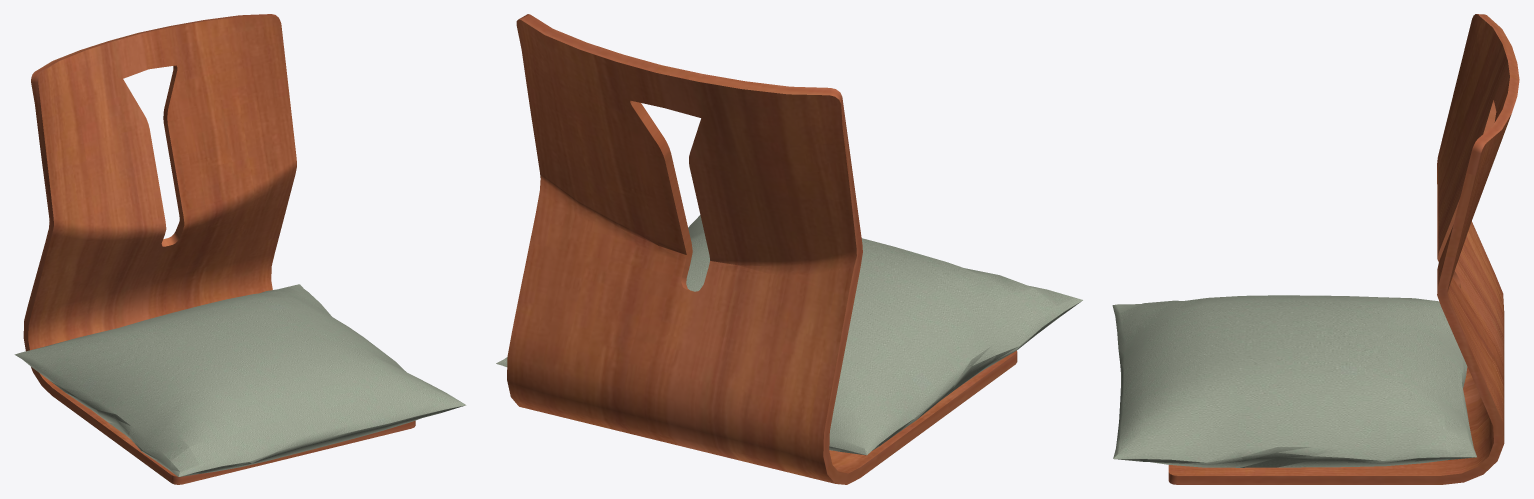
File: sh_scopia_ryokanchair.glb
3 views of the same model, side by side, from view 1: azimuth 30°, elevation 25°; view 2: azimuth 150°, elevation 25°; view 3: azimuth 270°, elevation 25° (orthographic). The views are drawn at different scales.
Bounding box in the file's own units: 0.533 × 0.548 × 0.59.
2 materials, 2 textured.
